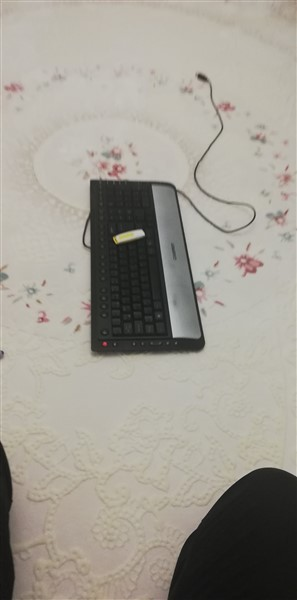flash disk: (112, 226, 151, 248)
klavye: (85, 174, 211, 354)
